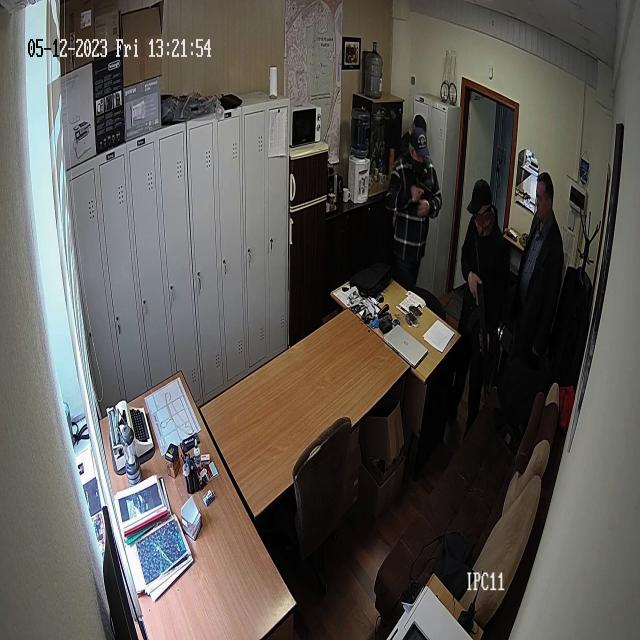gun: (459, 155, 518, 526), (388, 99, 449, 319), (476, 272, 510, 452), (526, 186, 559, 296), (414, 176, 430, 207)
